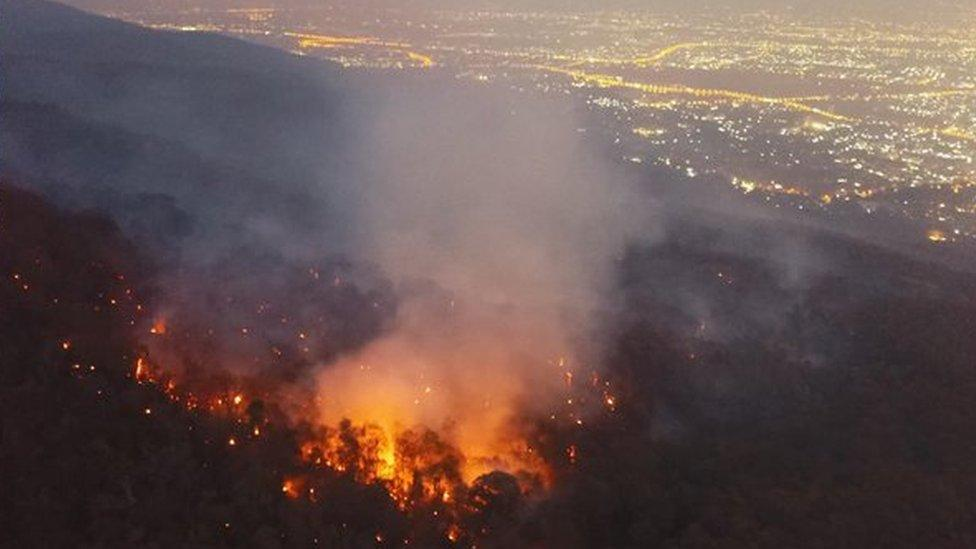fire: (102, 262, 692, 549), (308, 62, 653, 549)
